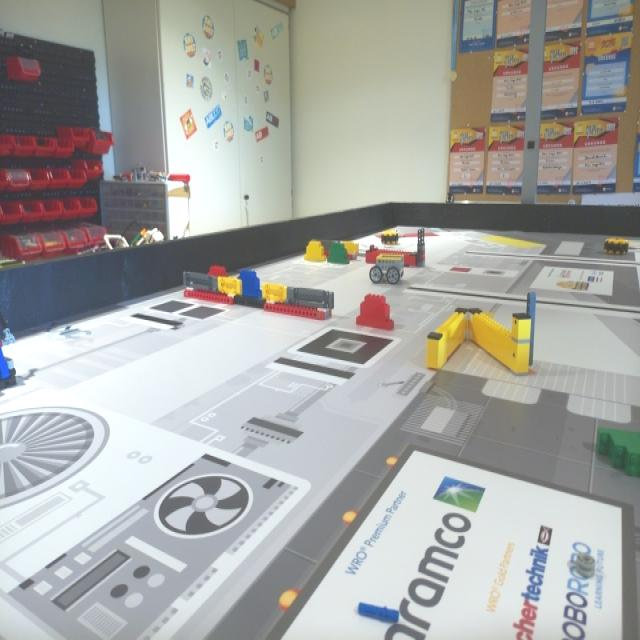blau: (236, 268, 262, 297)
gruen: (328, 242, 350, 265)
rot: (357, 292, 395, 330), (207, 265, 226, 280)
yellow: (304, 239, 325, 261)
